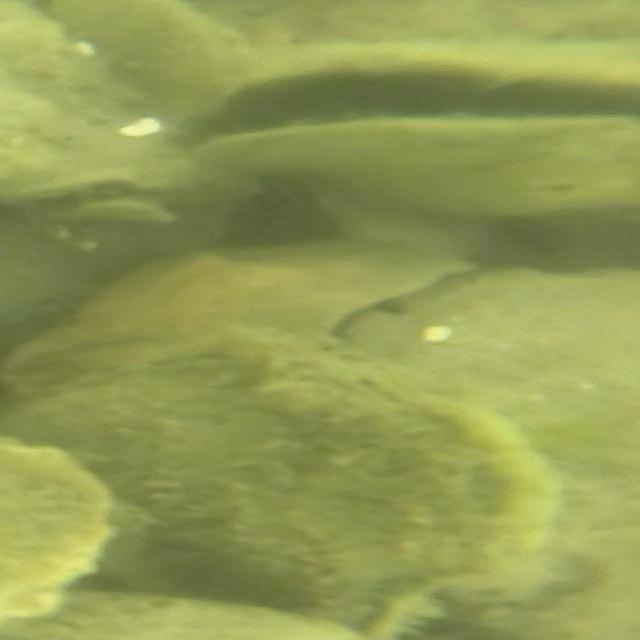Oyster-Closed: (0, 329, 557, 640), (340, 266, 640, 640), (0, 3, 237, 356), (4, 240, 464, 369), (40, 0, 261, 134), (0, 437, 104, 625), (0, 591, 378, 640), (281, 189, 500, 263)
Oyster-Open: (196, 40, 640, 217), (13, 174, 199, 222)
